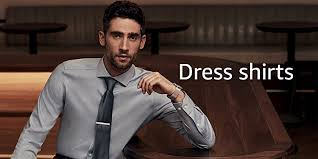F_shirt: (8, 52, 220, 159)
F_tie: (93, 73, 121, 159)
